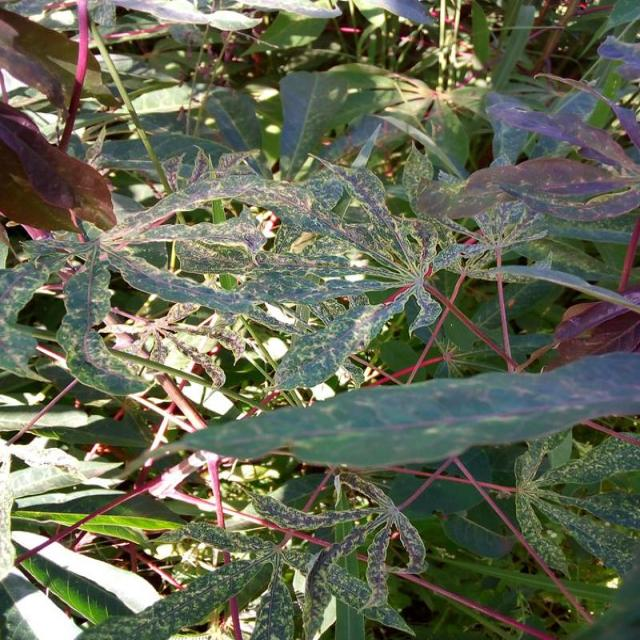cassava leaf: (1, 2, 638, 637), (95, 147, 443, 390), (164, 349, 638, 469)
